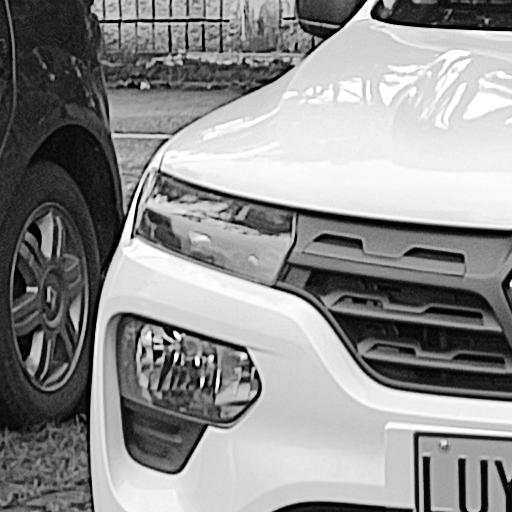placa: (412, 434, 512, 512)
